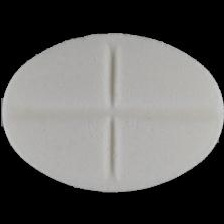70786-0001: (0, 0, 224, 224)
